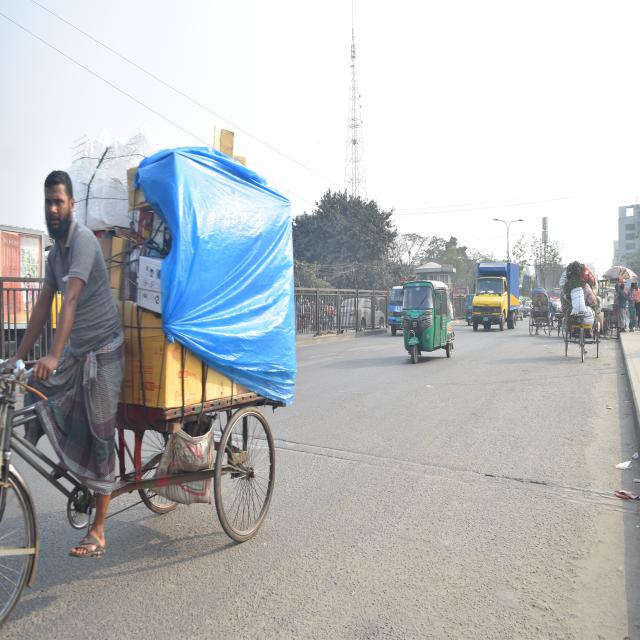bus: (552, 285, 560, 299)
car: (523, 299, 533, 318), (518, 300, 524, 322)
pickup-van: (469, 257, 520, 332), (384, 279, 407, 340)
